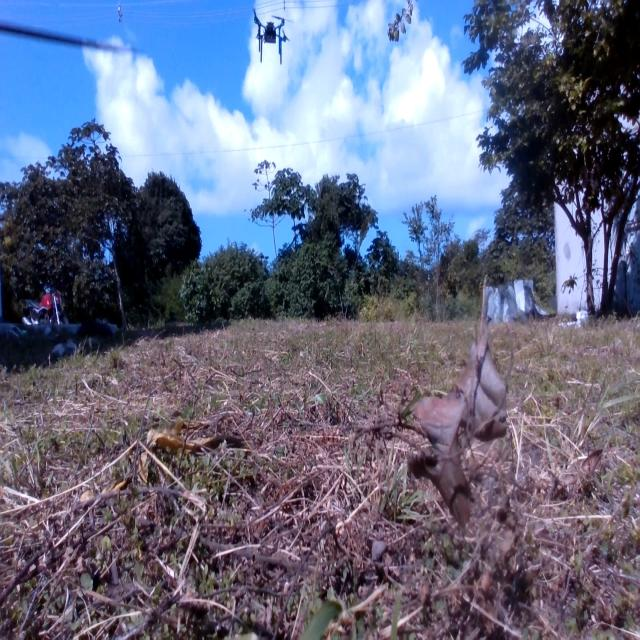-uav-: (242, 0, 298, 74)
